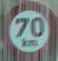Speed limit: (4, 5, 53, 56)
